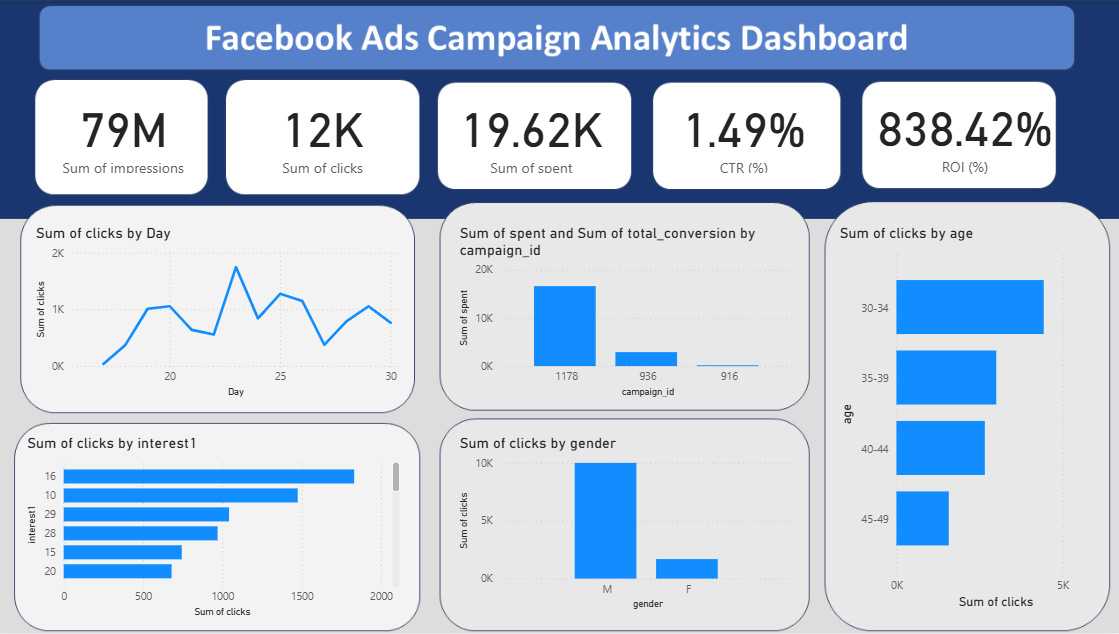

This screenshot's page, from the dashboard's own definition file:
{"tool":"powerbi","page":{"name":"Page 1","canvas":[1280,720],"ordinal":0},"visuals":[{"type":"card","fields":{"Values":["Sum(facebook_ads_clean (2).impressions)"]},"box":[43.4,103,224.3,99.7],"z":0},{"type":"card","fields":{"Values":["Sum(facebook_ads_clean (2).clicks)"]},"box":[281.8,99.4,199.3,103.2],"z":1000},{"type":"card","fields":{"Values":["Sum(facebook_ads_clean (2).spent)"]},"box":[515,99.4,215.4,99.7],"z":2000},{"type":"card","fields":{"Values":["facebook_ads_cleaned.CTR (%)"]},"box":[757.1,103,218.9,99.7],"z":3000},{"type":"card","fields":{"Values":["facebook_ads_cleaned.ROI (%)"]},"box":[976,103,233.2,103.2],"z":4000},{"type":"lineChart","fields":{"Category":["facebook_ads_cleaned.reporting_start.Variation.Date Hierarchy.Year","facebook_ads_cleaned.reporting_start.Variation.Date Hierarchy.Quarter","facebook_ads_cleaned.reporting_start.Variation.Date Hierarchy.Month","facebook_ads_cleaned.reporting_start.Variation.Date Hierarchy.Day"],"Y":["Sum(facebook_ads_cleaned.clicks)"]},"box":[42.7,241.8,423.8,214.8],"z":5000},{"type":"clusteredBarChart","fields":{"Y":["Sum(facebook_ads_cleaned.clicks)"],"Category":["facebook_ads_cleaned.age"]},"box":[957.2,241.8,308.6,456.5],"z":6000},{"type":"clusteredColumnChart","fields":{"Category":["facebook_ads_cleaned.gender"],"Y":["Sum(facebook_ads_cleaned.clicks)"]},"box":[512,480.7,413.9,217.6],"z":7000},{"type":"clusteredBarChart","fields":{"Category":["facebook_ads_cleaned.interest1"],"Y":["Sum(facebook_ads_cleaned.clicks)"]},"box":[32.7,480.7,449.4,226.1],"z":8000},{"type":"clusteredColumnChart","fields":{"Category":["facebook_ads_cleaned.campaign_id"],"Y":["Sum(facebook_ads_cleaned.spent)"]},"box":[514.8,230.4,411,214.8],"z":9000}]}

Visuals, with their boxes in screenshot pixels (x1, y1, x2, y2), scaled from the page's 1280x720 canvas onto the 1119x634 screenshot:
card - Sum(facebook_ads_clean (2).impressions): crop(38, 91, 234, 178)
card - Sum(facebook_ads_clean (2).clicks): crop(246, 88, 421, 178)
card - Sum(facebook_ads_clean (2).spent): crop(450, 88, 639, 175)
card - facebook_ads_cleaned.CTR (%): crop(662, 91, 853, 178)
card - facebook_ads_cleaned.ROI (%): crop(853, 91, 1057, 182)
lineChart - facebook_ads_cleaned.reporting_start.Variation.Date Hierarchy.Year x facebook_ads_cleaned.reporting_start.Variation.Date Hierarchy.Quarter: crop(37, 213, 408, 402)
clusteredBarChart - Sum(facebook_ads_cleaned.clicks) x facebook_ads_cleaned.age: crop(837, 213, 1107, 615)
clusteredColumnChart - facebook_ads_cleaned.gender x Sum(facebook_ads_cleaned.clicks): crop(448, 423, 809, 615)
clusteredBarChart - facebook_ads_cleaned.interest1 x Sum(facebook_ads_cleaned.clicks): crop(29, 423, 421, 622)
clusteredColumnChart - facebook_ads_cleaned.campaign_id x Sum(facebook_ads_cleaned.spent): crop(450, 203, 809, 392)
